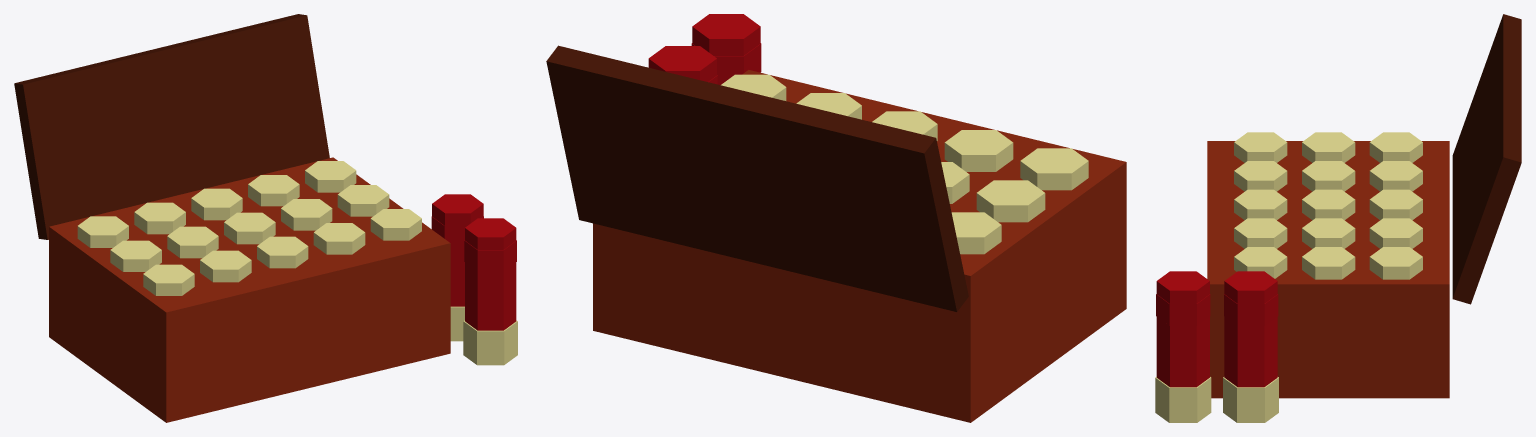
File: ce_ammo_shotgun_shot_c.obj
The picture shows the model from 3 angles, left to right: view 1: azimuth 30°, elevation 25°; view 2: azimuth 150°, elevation 25°; view 3: azimuth 270°, elevation 25°; orthographic projection. The views are drawn at different scales.
Visible parts, largest first — view 1: ce_ammo_shotgun_shot_c_0, ce_ammo_shotgun_shot_c_16, ce_ammo_shotgun_shot_c_18, ce_ammo_shotgun_shot_c_21, ce_ammo_shotgun_shot_c_17, ce_ammo_shotgun_shot_c_7, ce_ammo_shotgun_shot_c_4, ce_ammo_shotgun_shot_c_10, ce_ammo_shotgun_shot_c_1, ce_ammo_shotgun_shot_c_6, ce_ammo_shotgun_shot_c_8, ce_ammo_shotgun_shot_c_13 (+11 smaller); view 2: ce_ammo_shotgun_shot_c_0, ce_ammo_shotgun_shot_c_16, ce_ammo_shotgun_shot_c_2, ce_ammo_shotgun_shot_c_1, ce_ammo_shotgun_shot_c_4, ce_ammo_shotgun_shot_c_18, ce_ammo_shotgun_shot_c_21, ce_ammo_shotgun_shot_c_3, ce_ammo_shotgun_shot_c_7, ce_ammo_shotgun_shot_c_13, ce_ammo_shotgun_shot_c_10, ce_ammo_shotgun_shot_c_19 (+1 smaller); view 3: ce_ammo_shotgun_shot_c_0, ce_ammo_shotgun_shot_c_16, ce_ammo_shotgun_shot_c_18, ce_ammo_shotgun_shot_c_21, ce_ammo_shotgun_shot_c_17, ce_ammo_shotgun_shot_c_20, ce_ammo_shotgun_shot_c_14, ce_ammo_shotgun_shot_c_15, ce_ammo_shotgun_shot_c_7, ce_ammo_shotgun_shot_c_8, ce_ammo_shotgun_shot_c_9, ce_ammo_shotgun_shot_c_5 (+11 smaller).
Part boxes in pixels (x1=…): ce_ammo_shotgun_shot_c_0: x1=49, y1=157, x2=450, y2=422; ce_ammo_shotgun_shot_c_16: x1=14, y1=14, x2=329, y2=239; ce_ammo_shotgun_shot_c_18: x1=465, y1=218, x2=516, y2=330; ce_ammo_shotgun_shot_c_21: x1=432, y1=194, x2=483, y2=306; ce_ammo_shotgun_shot_c_17: x1=463, y1=320, x2=517, y2=365; ce_ammo_shotgun_shot_c_7: x1=257, y1=236, x2=308, y2=268; ce_ammo_shotgun_shot_c_4: x1=200, y1=250, x2=251, y2=282; ce_ammo_shotgun_shot_c_10: x1=313, y1=223, x2=365, y2=254; ce_ammo_shotgun_shot_c_1: x1=143, y1=264, x2=194, y2=295; ce_ammo_shotgun_shot_c_6: x1=134, y1=202, x2=185, y2=234; ce_ammo_shotgun_shot_c_8: x1=224, y1=212, x2=275, y2=244; ce_ammo_shotgun_shot_c_13: x1=370, y1=209, x2=421, y2=240; ce_ammo_shotgun_shot_c_0: x1=593, y1=70, x2=1126, y2=422; ce_ammo_shotgun_shot_c_16: x1=546, y1=45, x2=968, y2=311; ce_ammo_shotgun_shot_c_2: x1=976, y1=180, x2=1045, y2=222; ce_ammo_shotgun_shot_c_1: x1=1020, y1=148, x2=1088, y2=190; ce_ammo_shotgun_shot_c_4: x1=944, y1=130, x2=1013, y2=171; ce_ammo_shotgun_shot_c_18: x1=692, y1=14, x2=760, y2=84; ce_ammo_shotgun_shot_c_21: x1=648, y1=46, x2=716, y2=81; ce_ammo_shotgun_shot_c_3: x1=951, y1=212, x2=1001, y2=254; ce_ammo_shotgun_shot_c_7: x1=872, y1=111, x2=937, y2=140; ce_ammo_shotgun_shot_c_13: x1=721, y1=74, x2=786, y2=100; ce_ammo_shotgun_shot_c_10: x1=796, y1=93, x2=861, y2=119; ce_ammo_shotgun_shot_c_19: x1=691, y1=43, x2=761, y2=84; ce_ammo_shotgun_shot_c_0: x1=1207, y1=141, x2=1449, y2=398; ce_ammo_shotgun_shot_c_16: x1=1452, y1=14, x2=1521, y2=304; ce_ammo_shotgun_shot_c_18: x1=1156, y1=271, x2=1209, y2=387; ce_ammo_shotgun_shot_c_21: x1=1224, y1=271, x2=1277, y2=387; ce_ammo_shotgun_shot_c_17: x1=1155, y1=377, x2=1211, y2=422; ce_ammo_shotgun_shot_c_20: x1=1223, y1=377, x2=1278, y2=422; ce_ammo_shotgun_shot_c_14: x1=1302, y1=247, x2=1355, y2=279; ce_ammo_shotgun_shot_c_15: x1=1369, y1=247, x2=1422, y2=279; ce_ammo_shotgun_shot_c_7: x1=1234, y1=189, x2=1287, y2=220; ce_ammo_shotgun_shot_c_8: x1=1302, y1=189, x2=1355, y2=220; ce_ammo_shotgun_shot_c_9: x1=1369, y1=189, x2=1422, y2=220; ce_ammo_shotgun_shot_c_5: x1=1302, y1=161, x2=1355, y2=191.
Bounding box in the file's own units: 0.8202 × 0.5495 × 0.7571.
